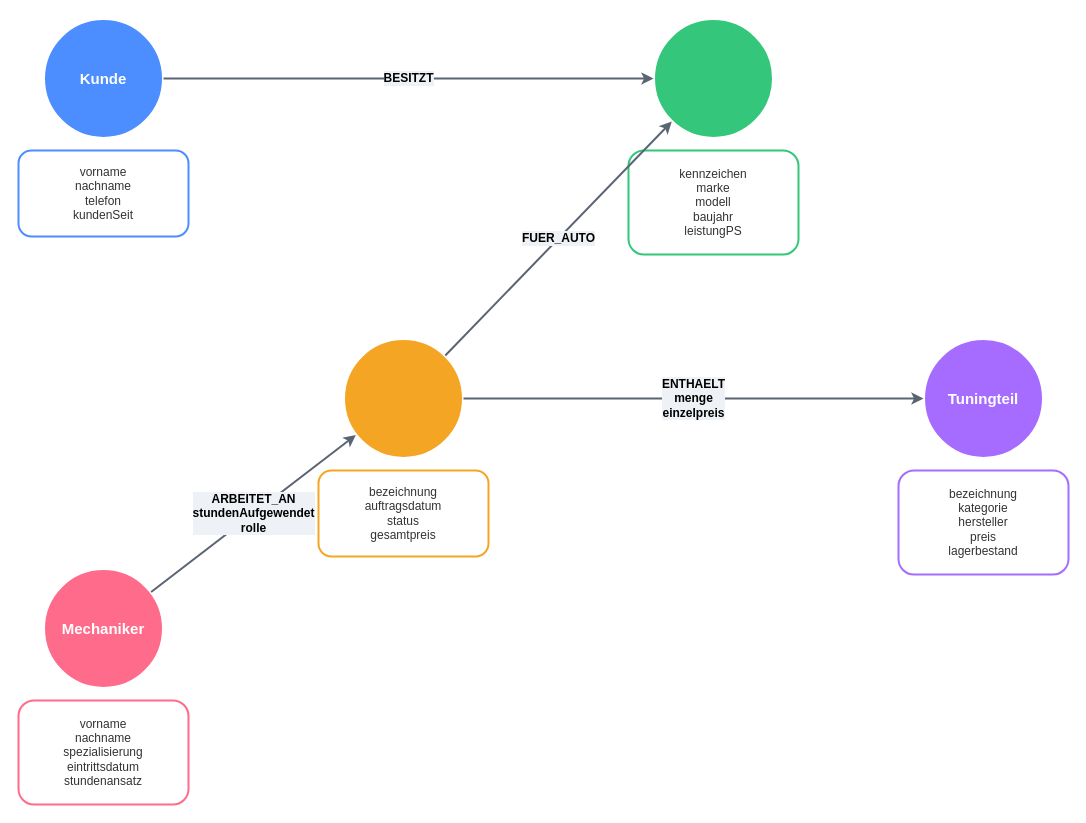
This 1086x823 diagram has some shape labels left out. The centre of each missing label's shape, as x and y in pixels:
Auto: (x=713, y=78)
Tuningauftrag: (x=403, y=398)
